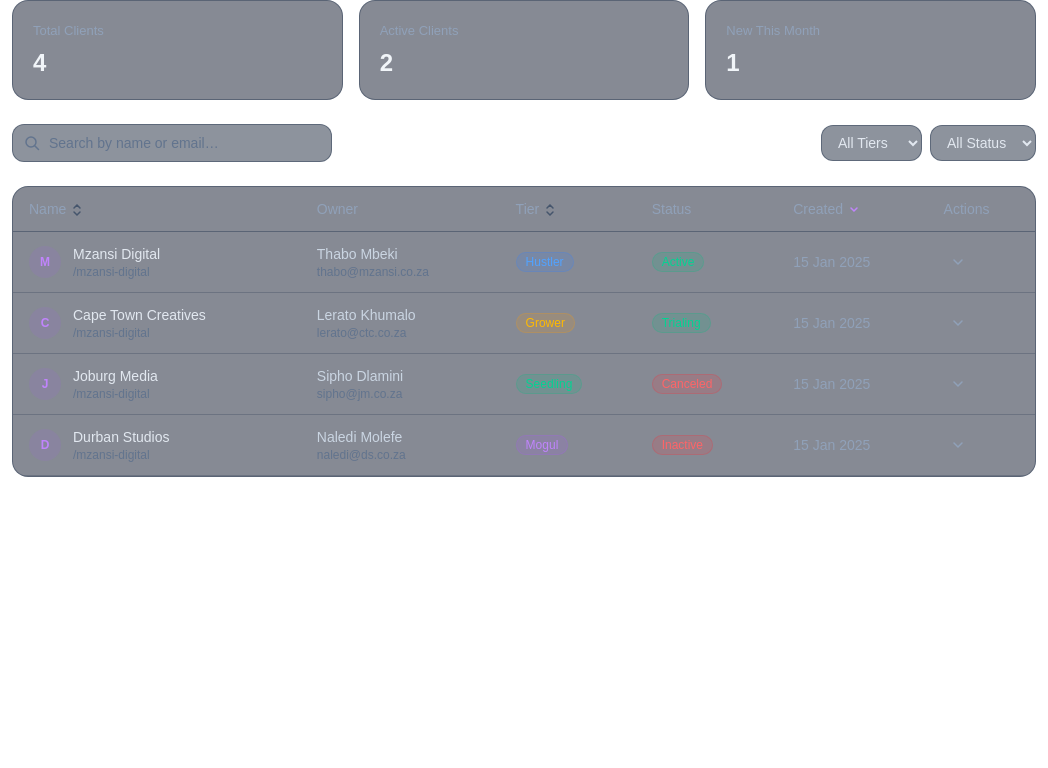
Test case: ClientsTable › only one row can be expanded at a time
// Expand first row
Click the row with test id "client-row-org-1" at (524, 262), box [13,231,1035,292]
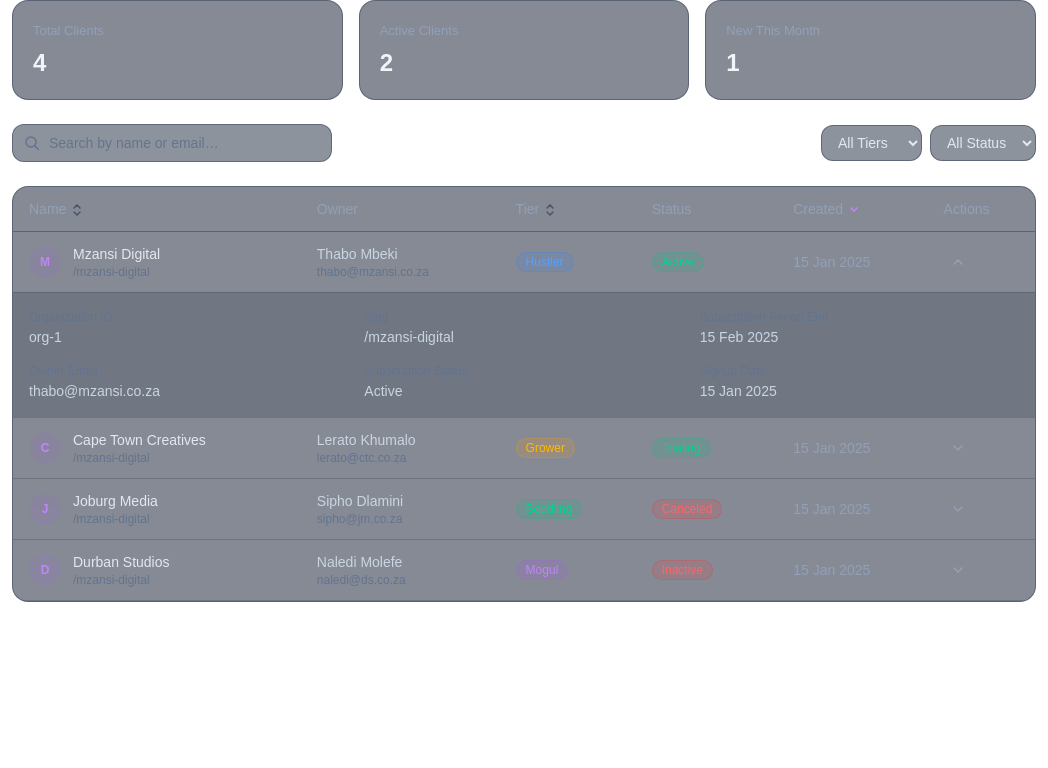
Expected: the row with test id "client-details-org-1" is shown, [13,292,1035,417]
// Expand second row — first should collapse
Click the row with test id "client-row-org-2" at (524, 448), box [13,417,1035,478]
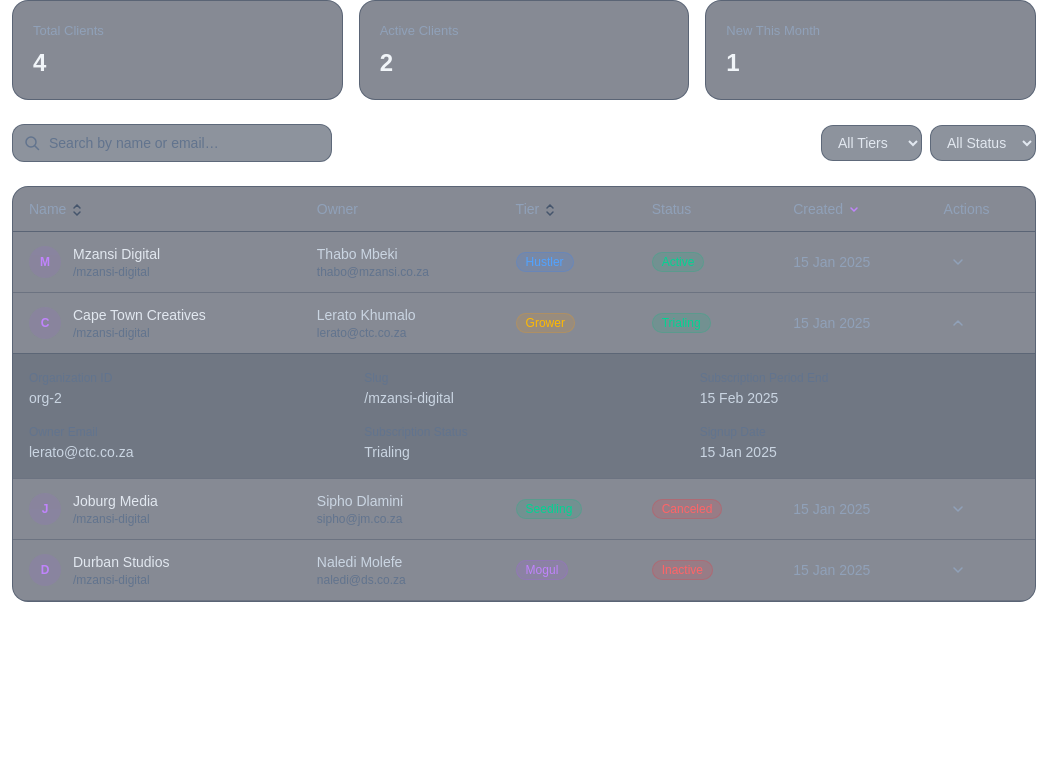
Expected: the row with test id "client-details-org-1" is gone
Expected: the row with test id "client-details-org-2" is shown, [13,353,1035,478]
